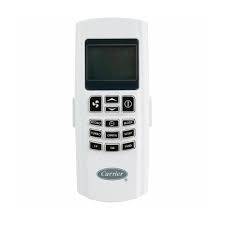remote control: (69, 14, 158, 202)
